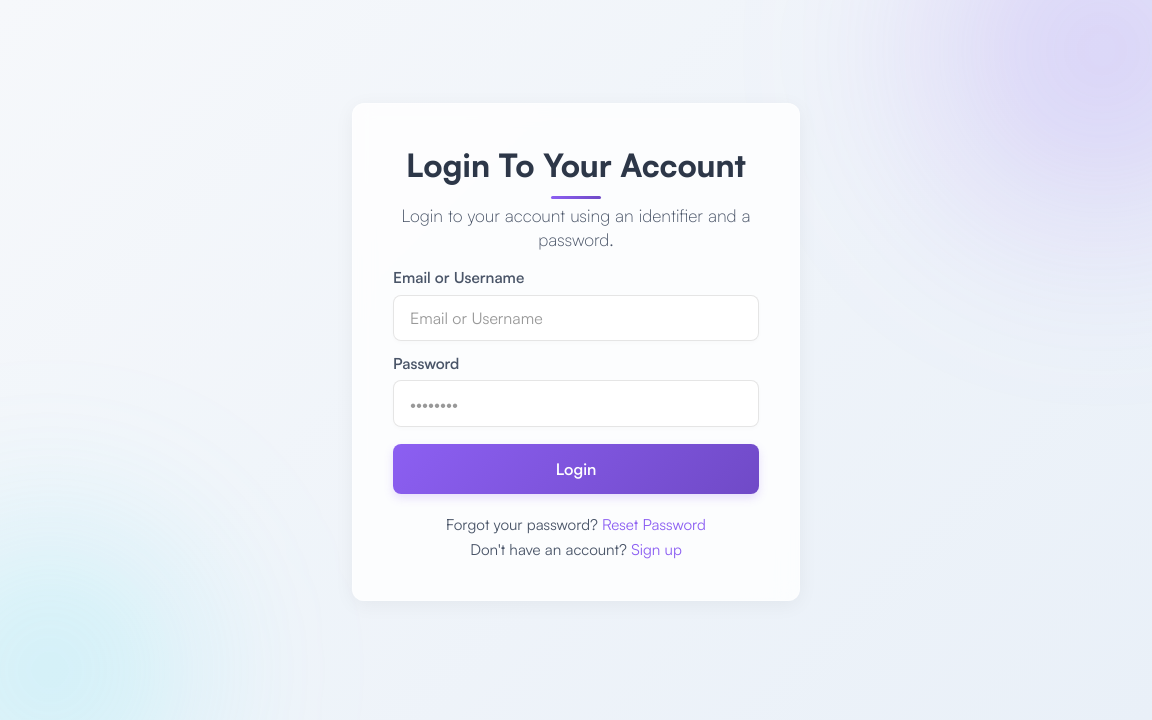
Scenario: LoginPage › shows error on invalid credentials
Type "testuser" into the field labelled "Email or Username" at (576, 318), box [393,295,759,341]
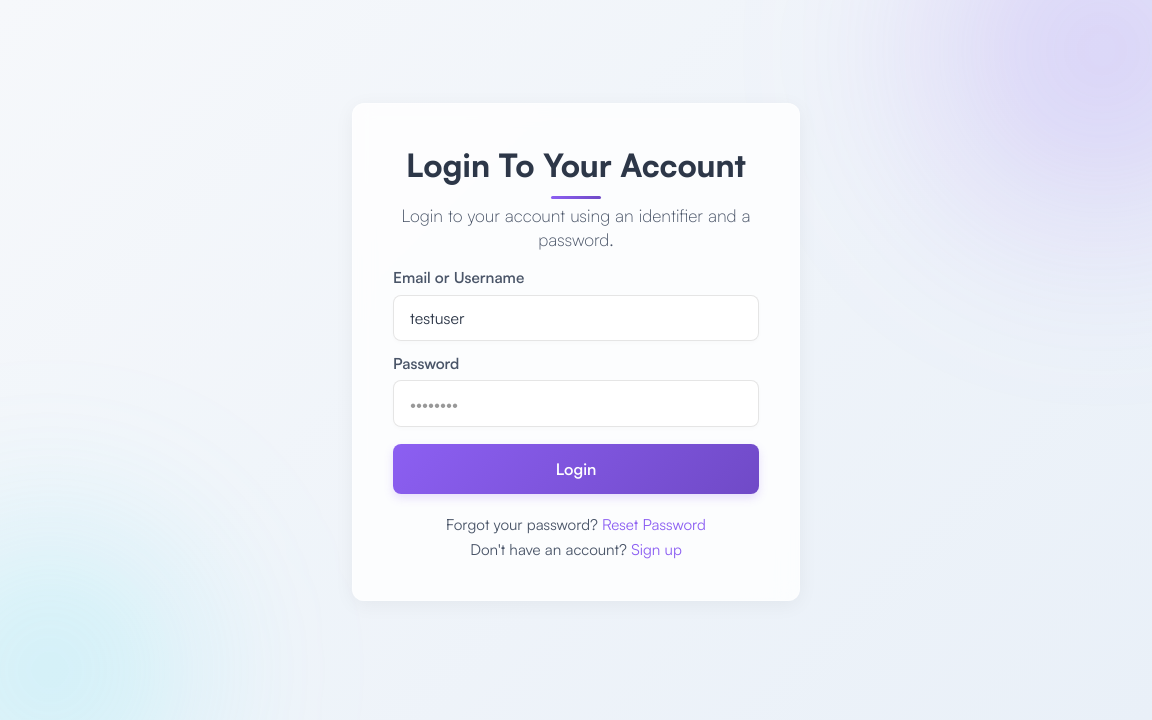
Type "P@ssw0rd!" into the password field labelled "Password" at (576, 404), box [393,380,759,427]
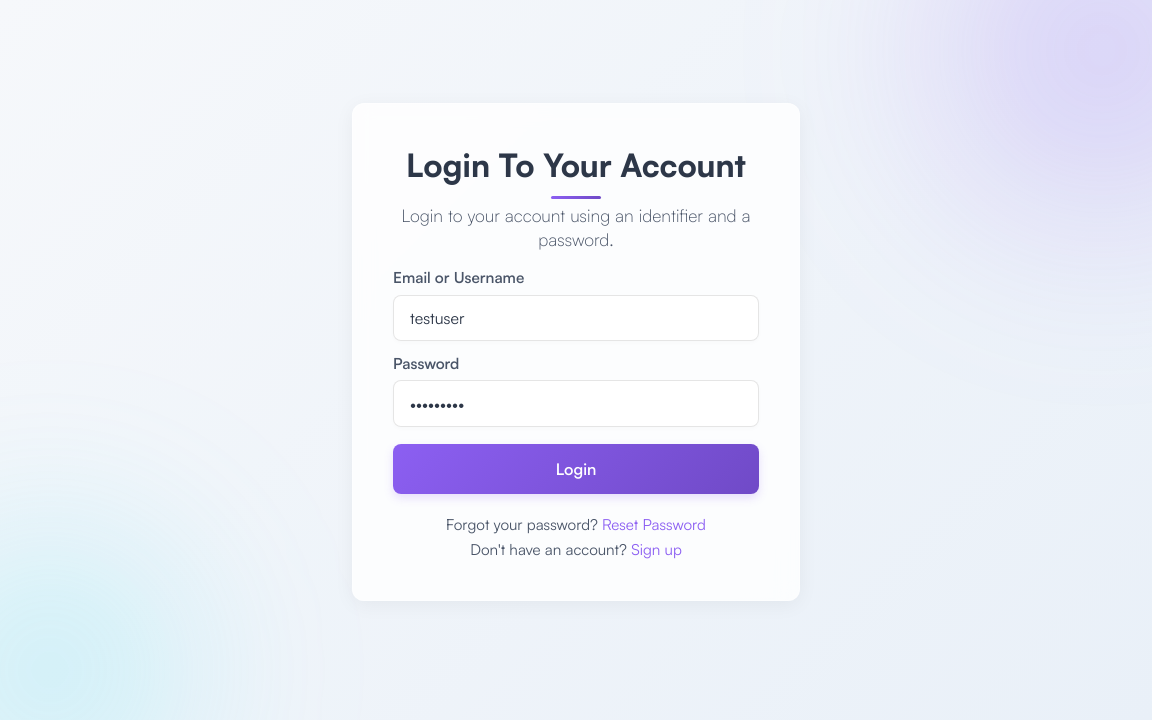
Click the button "Login" at (576, 469), box [393,444,759,494]
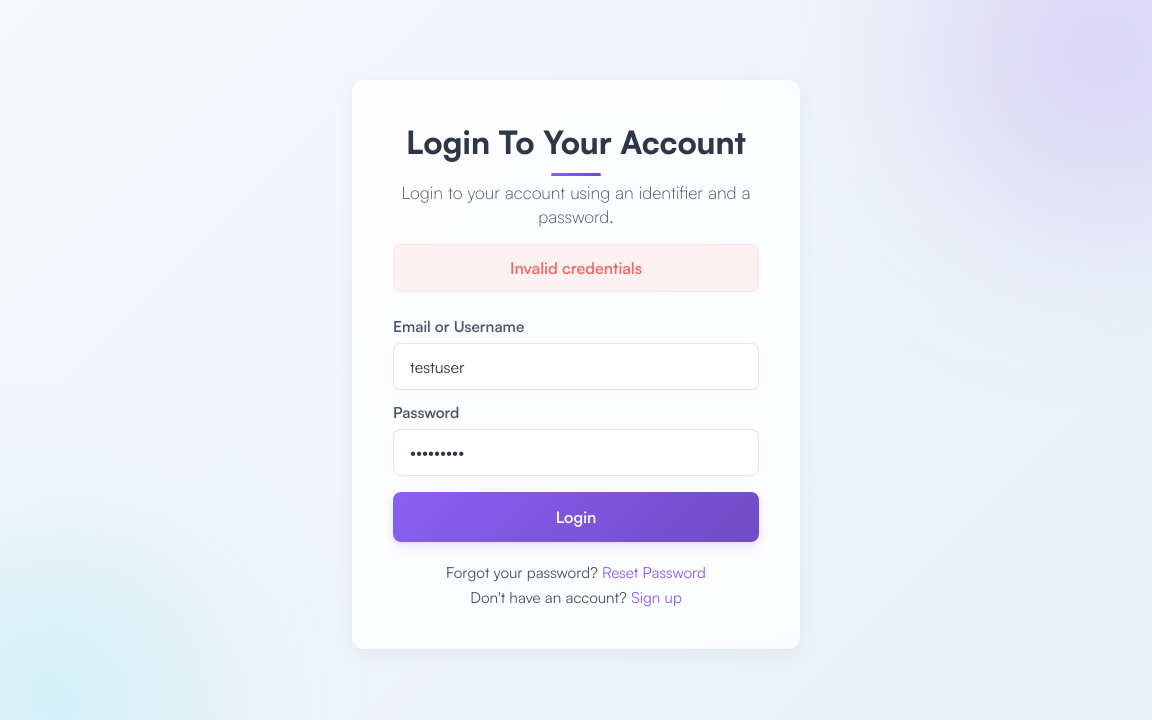
Result: the text "Invalid credentials" is shown at [393,244,759,292]
